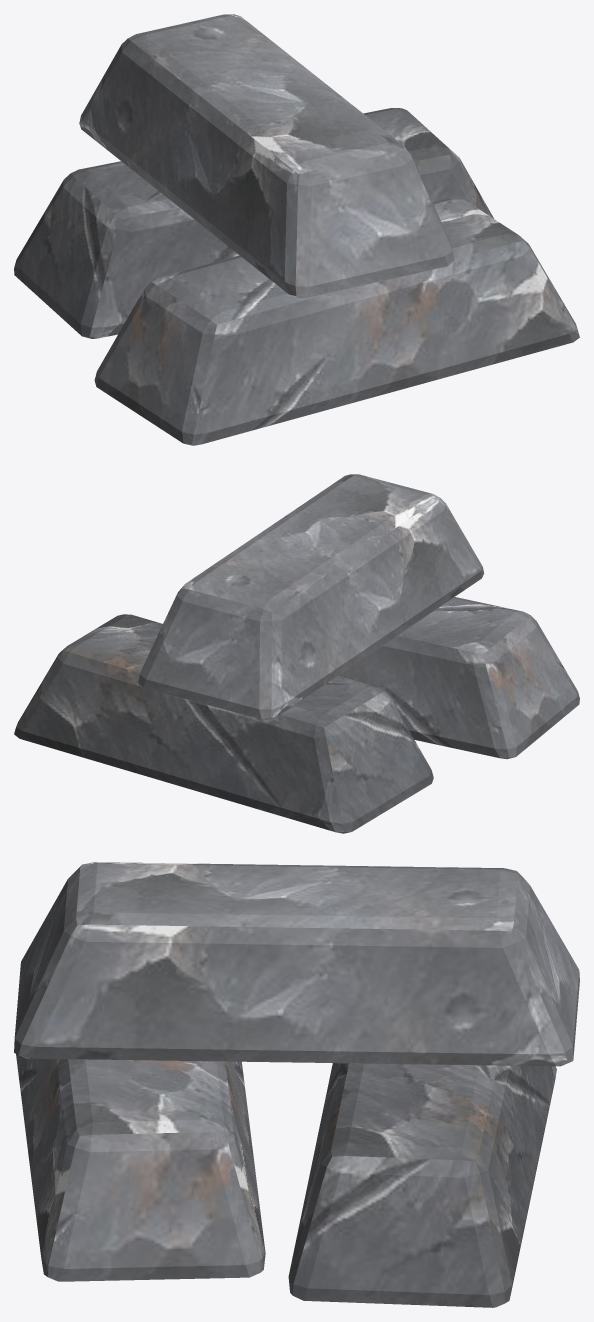
Rendered from silver_ingot.glb.
3 renders of one model, top to bottom at view 1: azimuth 30°, elevation 25°; view 2: azimuth 150°, elevation 25°; view 3: azimuth 270°, elevation 25°, orthographic. The views are drawn at different scales.
Visible parts, largest first — view 1: model; view 2: model; view 3: model.
Boxes of the visible parts, x1,y1,x2,y2 form: model: (14, 14, 579, 445); model: (14, 474, 579, 833); model: (14, 862, 579, 1307).
Size of the model in its own units: 0.2408 by 0.115 by 0.2162.
Materials: 3 (3 with a texture image).
